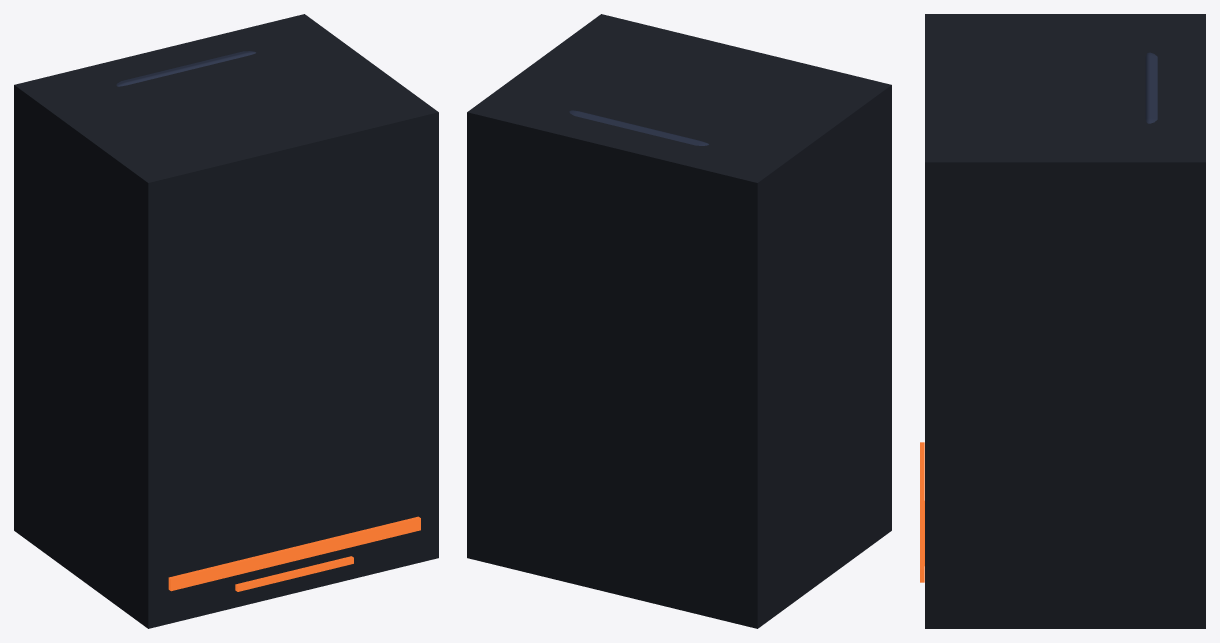
The model's file is phone.glb.
3 renders of one model, left to right at view 1: azimuth 30°, elevation 25°; view 2: azimuth 150°, elevation 25°; view 3: azimuth 270°, elevation 25°, orthographic. The views are drawn at different scales.
Visible parts, largest first — view 1: body (×2), status (×2), base; view 2: body (×2), base; view 3: body (×2), base, status.
Part boxes in pixels (x1,y1,x2,y2): body (×2): (14, 14, 438, 628); status (×2): (168, 516, 420, 591); base: (34, 507, 403, 603); body (×2): (467, 14, 891, 628); base: (502, 507, 871, 607); body (×2): (925, 14, 1205, 628); base: (967, 588, 1163, 618); status: (920, 442, 924, 582).
Size of the model in its own units: 1.5 by 2.21 by 1.22.
